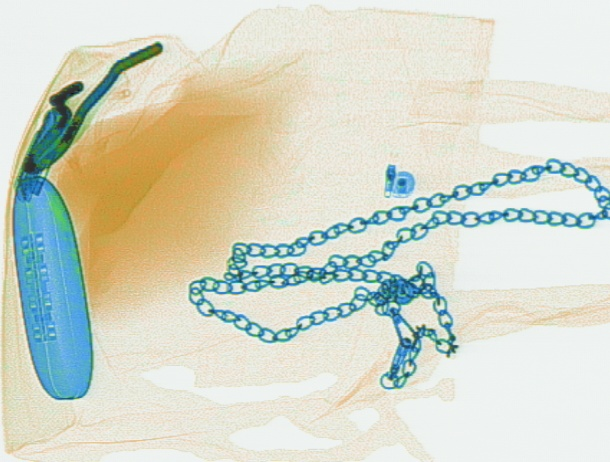knife: (13, 105, 63, 204)
slingshot: (22, 40, 162, 172)
